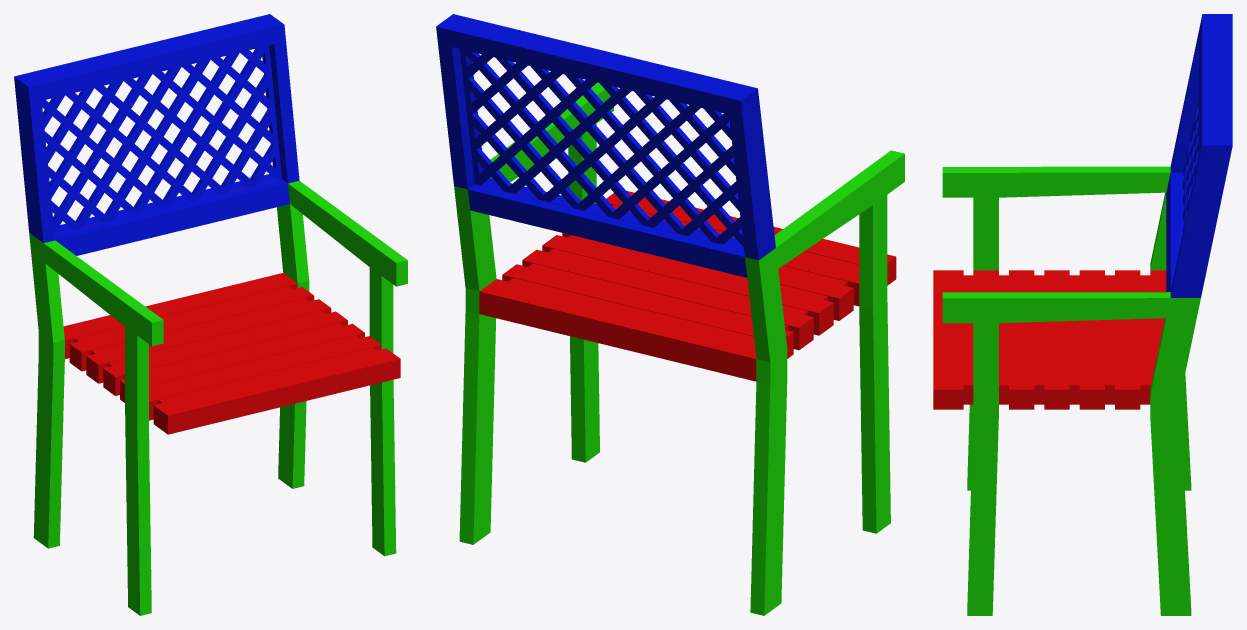
File: Chair.fbx
3 renders of one model, left to right at view 1: azimuth 30°, elevation 25°; view 2: azimuth 150°, elevation 25°; view 3: azimuth 270°, elevation 25°, orthographic. The views are drawn at different scales.
Parts seen in each view (by area): view 1: Bench; view 2: Bench; view 3: Bench.
Boxes of the visible parts, bbox=[...] form: Bench: bbox=[14, 14, 407, 615]; Bench: bbox=[436, 14, 904, 615]; Bench: bbox=[933, 14, 1232, 615].
Size of the model in its own units: 282 by 470 by 271.
